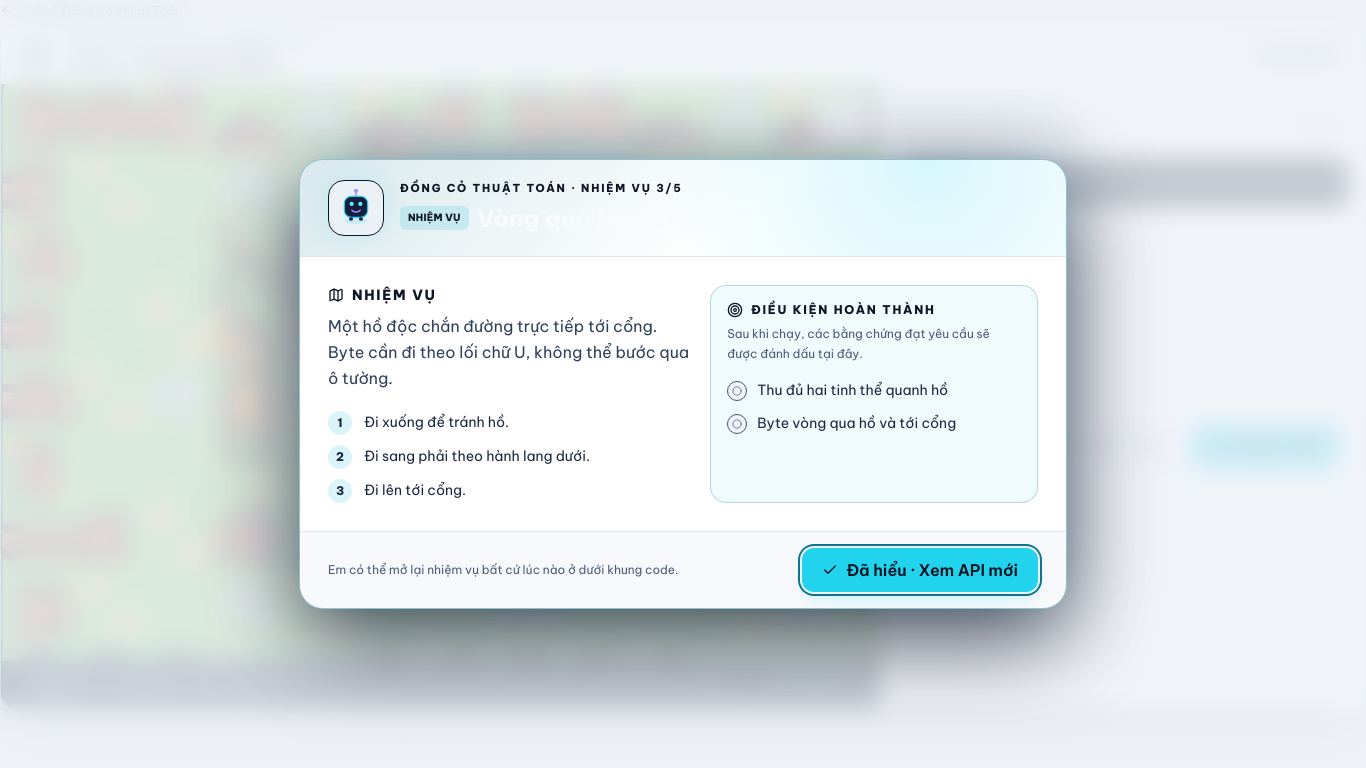
Test: Stage chung cho mọi nhiệm vụ › mở kiến thức trong popup và đóng lại không rời nhiệm vụ
This screenshot has width=1366, height=768.
Click the button "Đã hiểu · Xem API mới" at (920, 570), box [802, 548, 1038, 592]
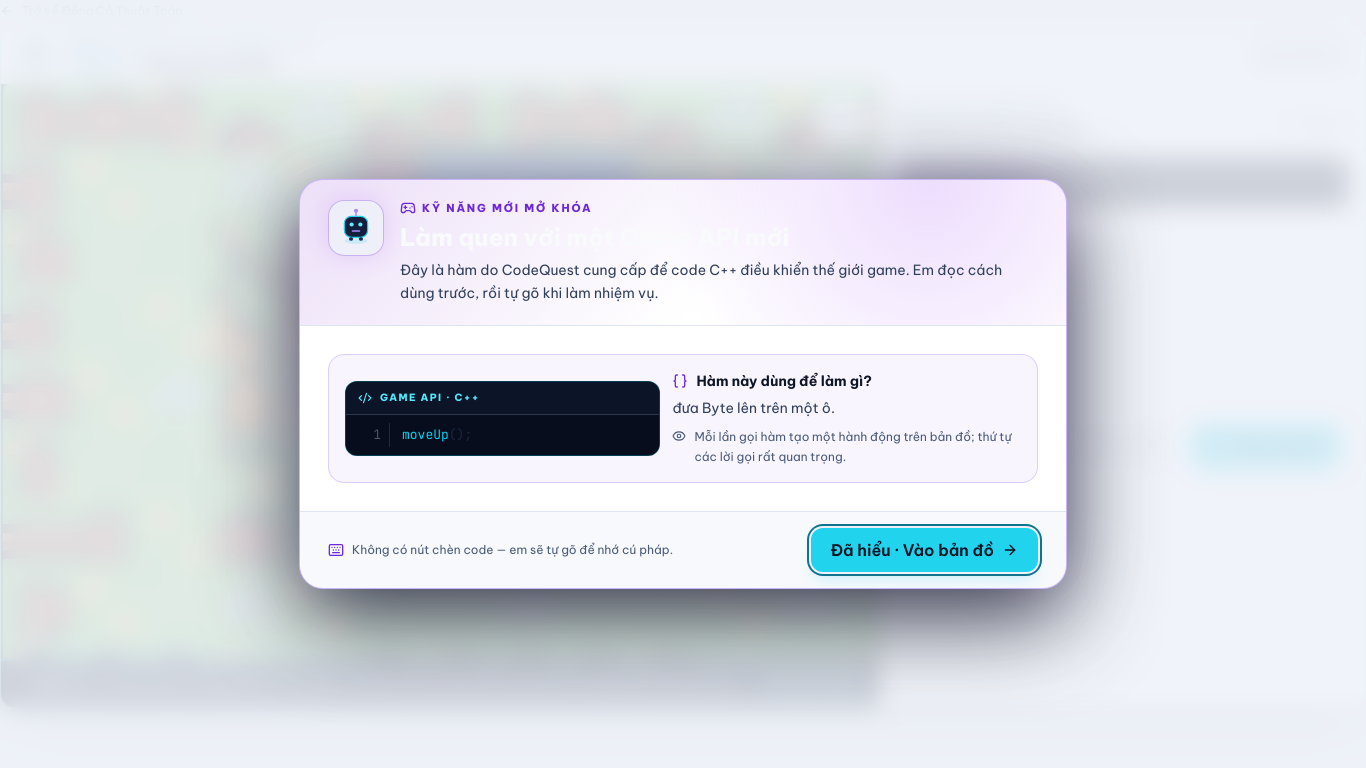
Click the button "Đã hiểu · Vào bản đồ" at (924, 550), box [810, 528, 1038, 572]
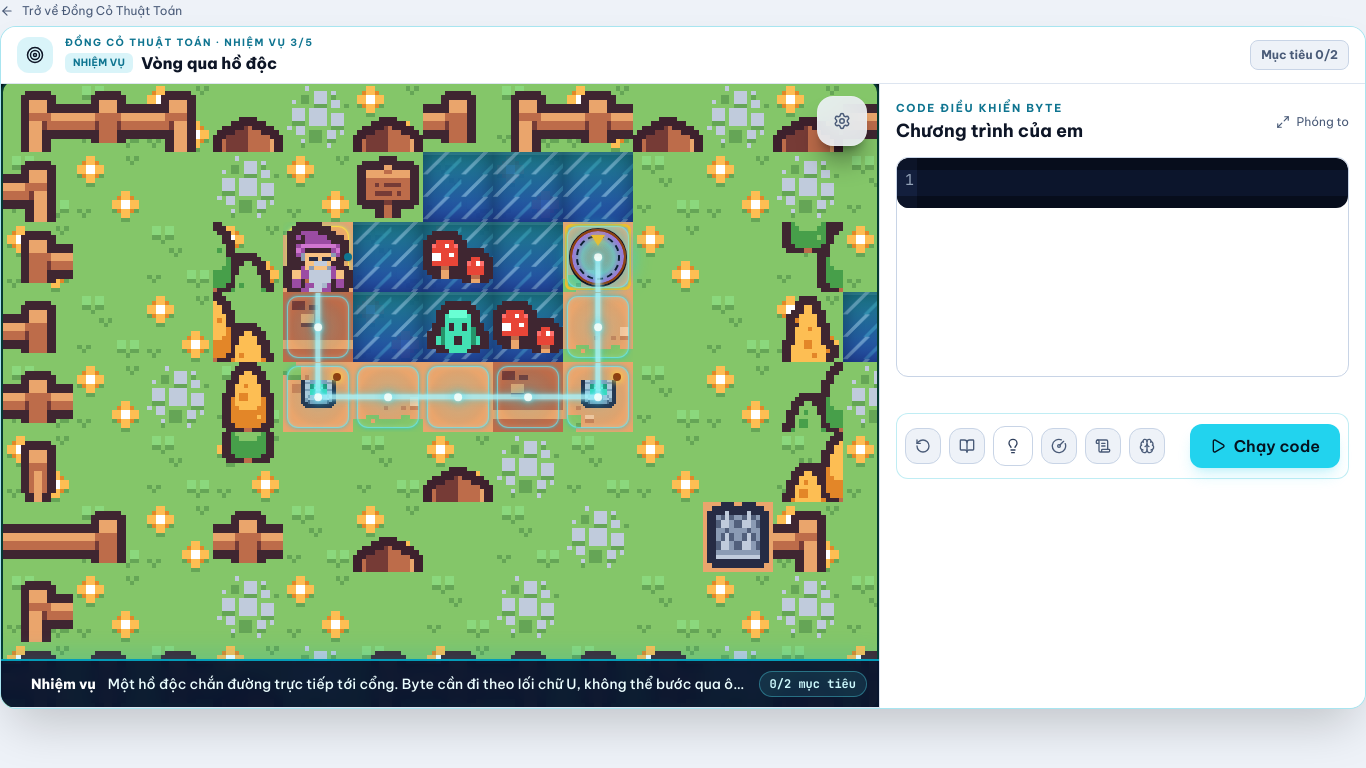
Click the button named "Xem lại kiến thức" at (1147, 446), box [1129, 428, 1165, 464]
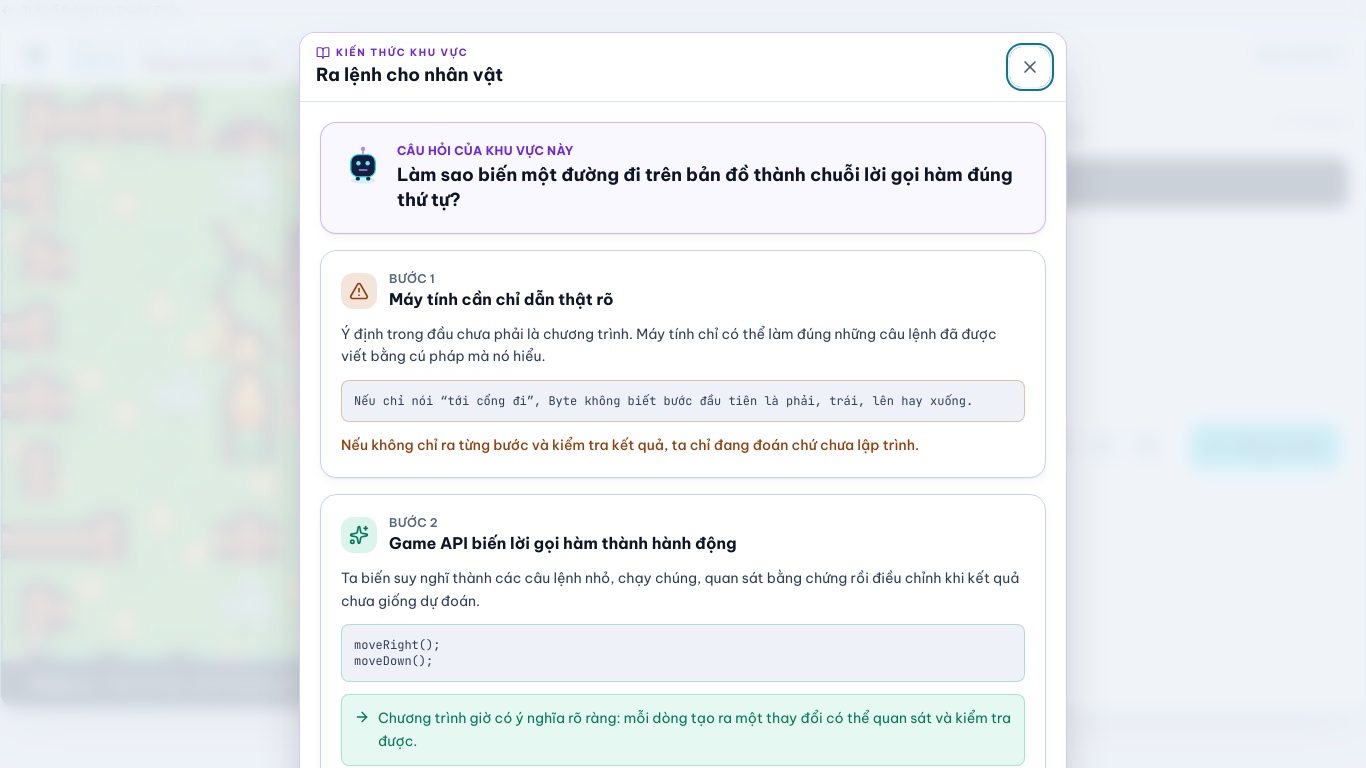
Now the dialog "Ra lệnh cho nhân vật" is shown
Click the button named "Đóng phần kiến thức" at (1030, 67), box [1010, 47, 1050, 87]
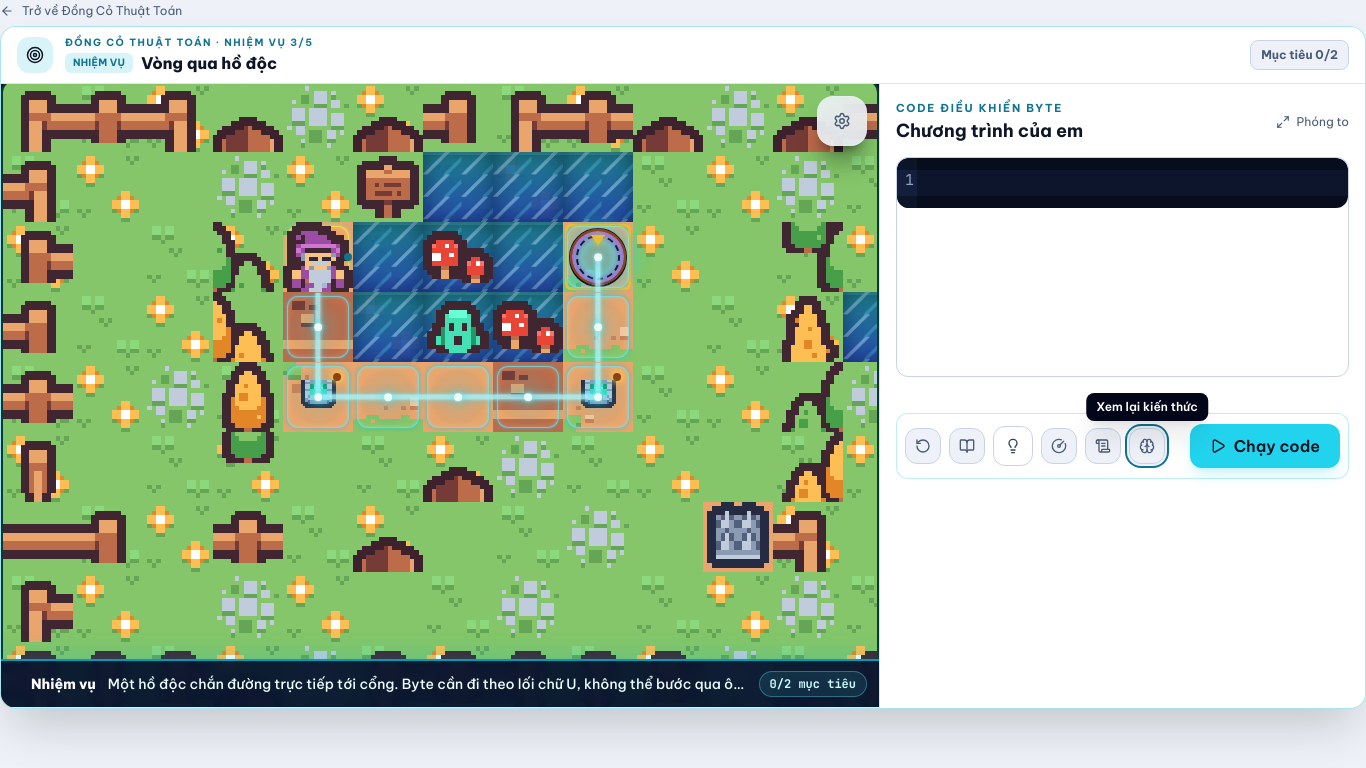
Expected: the heading "Chương trình của em" is shown, [896, 117, 1083, 145]
Now the dialog is gone
